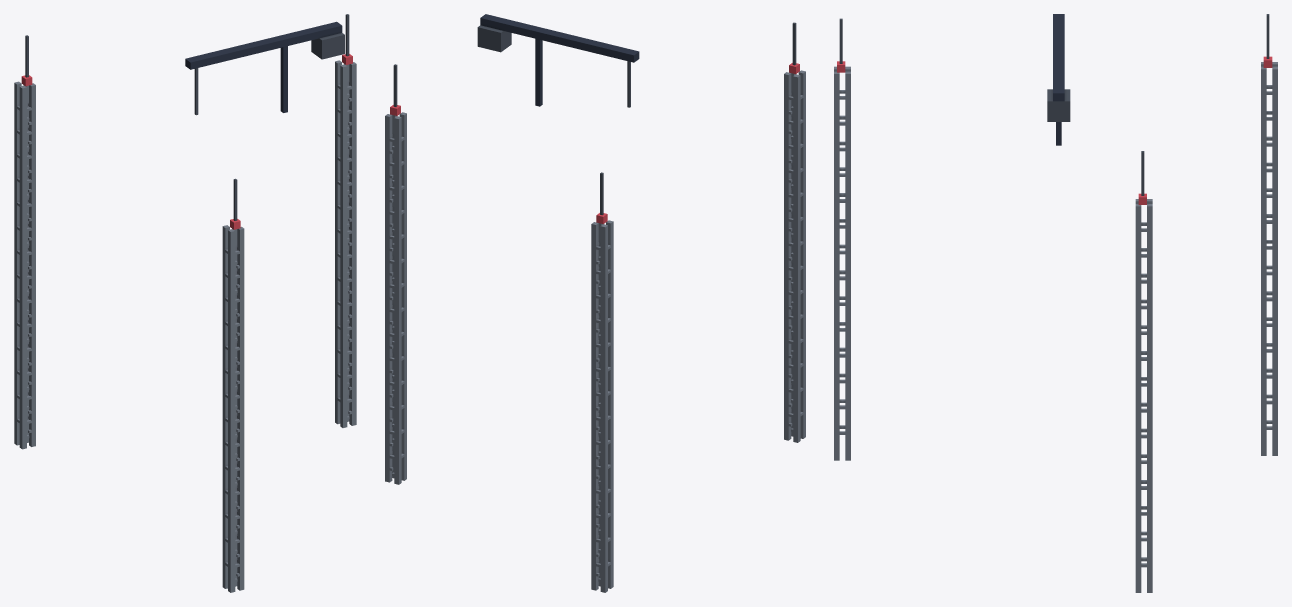
The model's file is pad_e4_l3.glb.
3 renders of one model, left to right at view 1: azimuth 30°, elevation 25°; view 2: azimuth 150°, elevation 25°; view 3: azimuth 270°, elevation 25°, orthographic. The views are drawn at different scales.
Visible parts, largest first — view 1: Base; view 2: Base; view 3: Base.
Part boxes in pixels (bbox=[...]): Base: bbox=[14, 14, 356, 592]; Base: bbox=[385, 14, 805, 592]; Base: bbox=[834, 14, 1277, 592].
Bounding box in the file's own units: 12 × 18.3 × 15.6.
